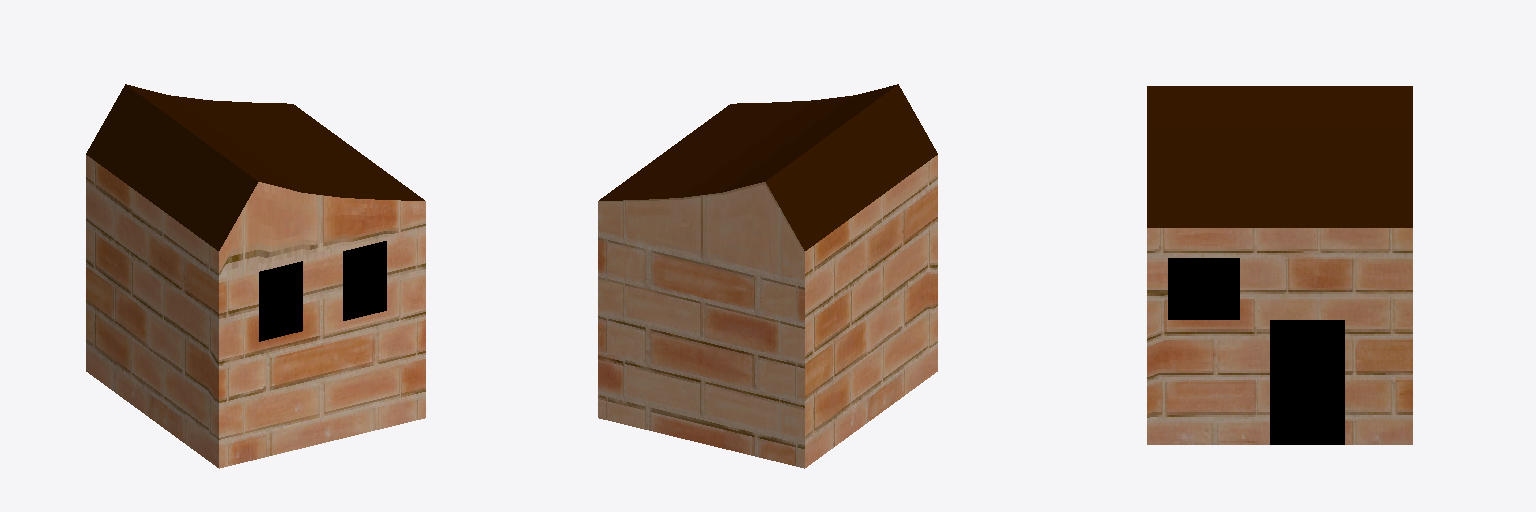
3 renders of one model, left to right at view 1: azimuth 30°, elevation 25°; view 2: azimuth 150°, elevation 25°; view 3: azimuth 270°, elevation 25°, orthographic.
Parts seen in each view (by area): view 1: pCube1; view 2: pCube1; view 3: pCube1.
Boxes of the visible parts, x1=… form: pCube1: x1=86, y1=84, x2=425, y2=468; pCube1: x1=598, y1=84, x2=937, y2=468; pCube1: x1=1147, y1=86, x2=1412, y2=444.
Size of the model in its own units: 9.52 by 12.16 by 10.6.
Materials: 4 (1 with a texture image).